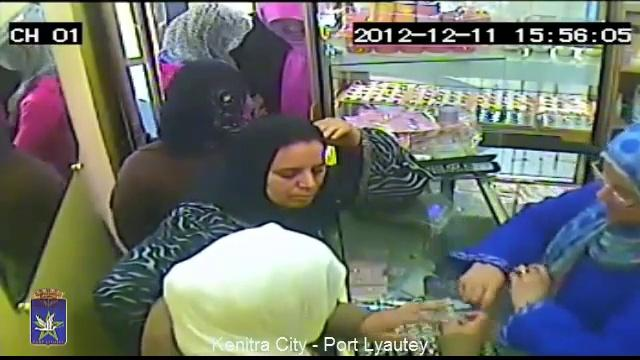Product: (400, 295, 424, 319)
Product-Picked: (116, 231, 445, 360)
Regular: (465, 86, 640, 360), (248, 122, 372, 239), (153, 64, 248, 171)
Shoplifting: (138, 0, 272, 78)
